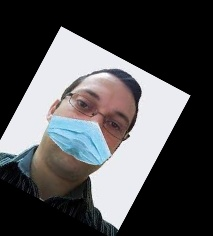mask_weared_incorrect: (46, 67, 137, 186)
